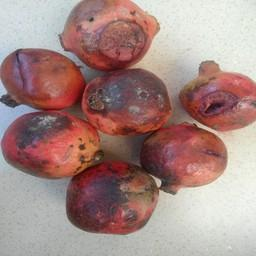Bad_pomegranate: (64, 159, 165, 237), (61, 0, 159, 70), (1, 113, 97, 175), (150, 123, 226, 195), (178, 66, 255, 132), (4, 43, 83, 107), (80, 73, 169, 128)
